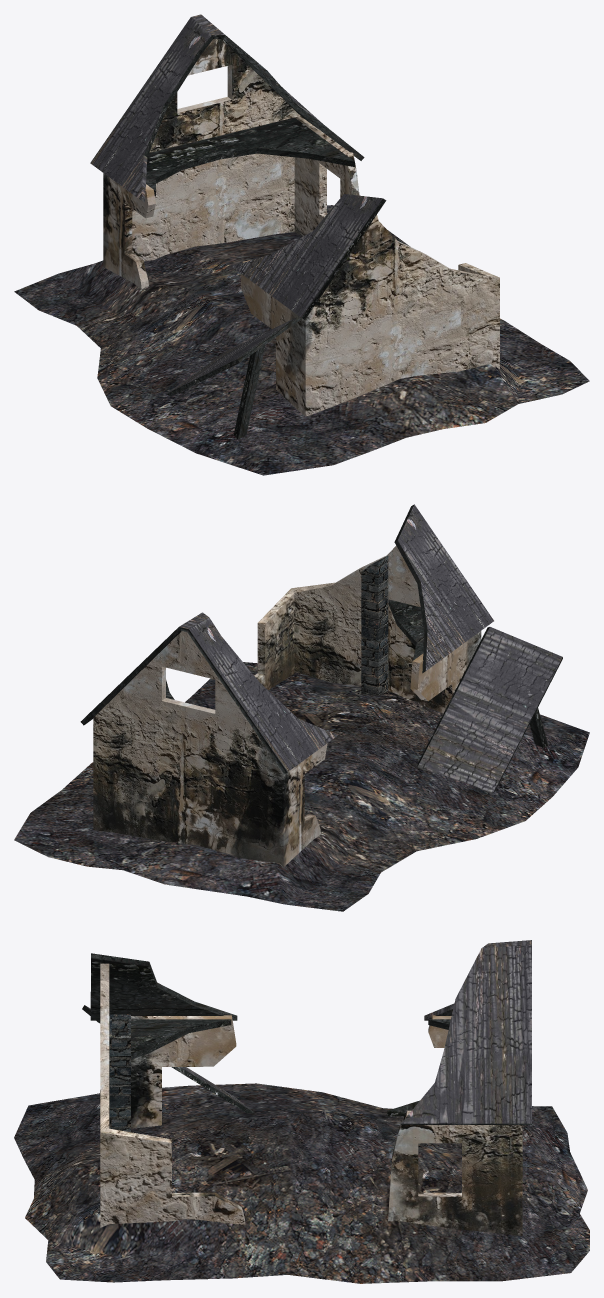
File: haus3_ruins.fbx
3 views of the same model, one above another, from view 1: azimuth 30°, elevation 25°; view 2: azimuth 150°, elevation 25°; view 3: azimuth 270°, elevation 25° (orthographic). The views are drawn at different scales.
Parts seen in each view (by area): view 1: ruins3_LOD0; view 2: ruins3_LOD0; view 3: ruins3_LOD0.
Boxes of the visible parts, x1,y1,x2,y2 form: ruins3_LOD0: [14, 14, 589, 475]; ruins3_LOD0: [14, 504, 589, 911]; ruins3_LOD0: [14, 940, 589, 1283].
Size of what is drawn, in the model's own units: 22.11 by 13.11 by 26.85.
